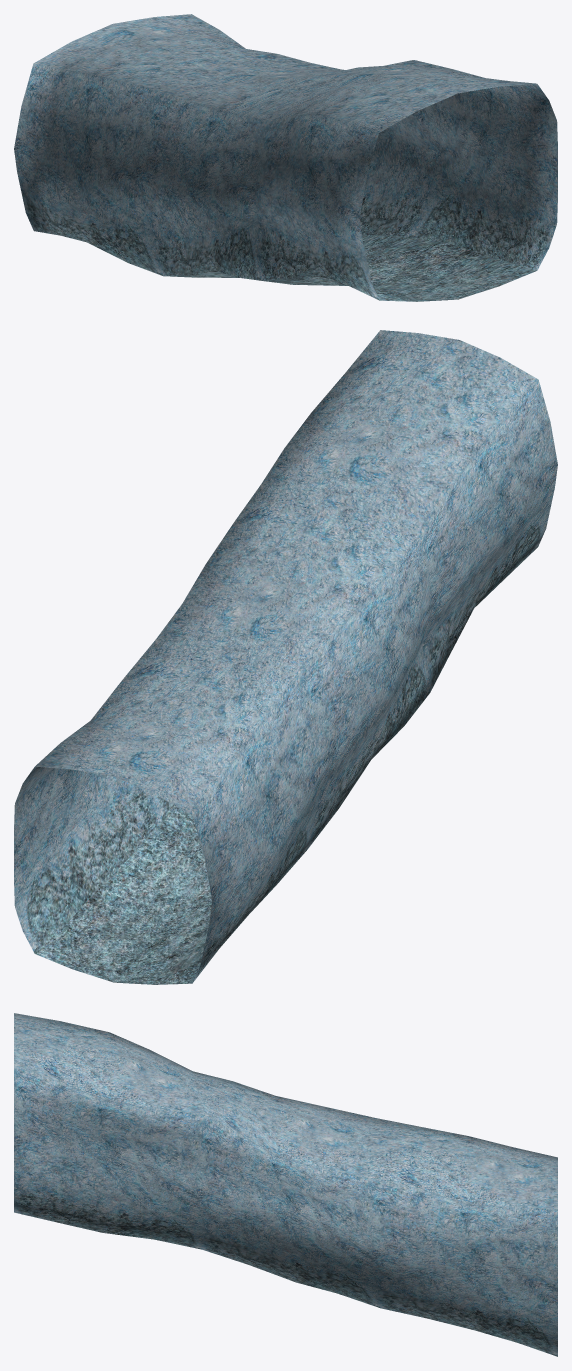
Rendered from thm_all_cave_s03_ice_r7_r7.fbx.
3 views of the same model, one above another, from view 1: azimuth 30°, elevation 25°; view 2: azimuth 150°, elevation 25°; view 3: azimuth 270°, elevation 25° (orthographic). The views are drawn at different scales.
Visible parts, largest first — view 1: mesh_node; view 2: mesh_node; view 3: mesh_node.
Part boxes in pixels (<box>): mesh_node: <box>14,14,557,301</box>; mesh_node: <box>14,330,557,984</box>; mesh_node: <box>14,1013,557,1356</box>.
Size of the model in its own units: 8.34 by 14.93 by 24.
